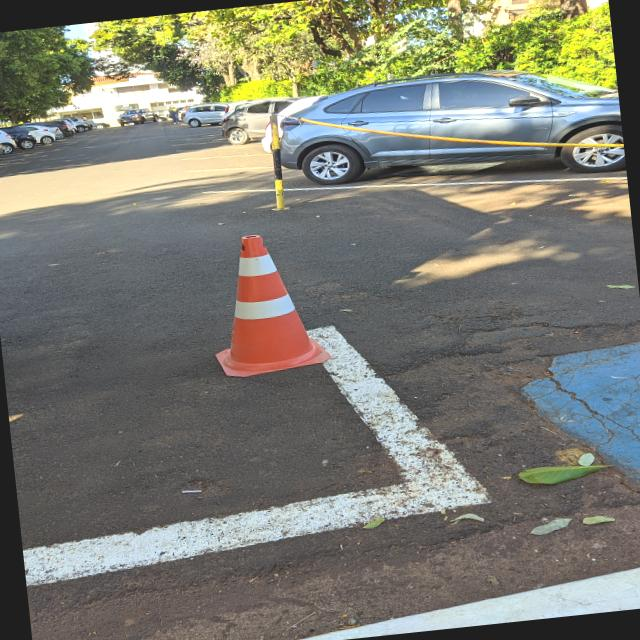cone: (196, 223, 338, 384)
